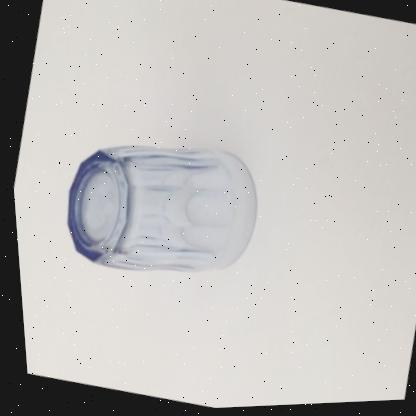Glass: (64, 146, 253, 273)
